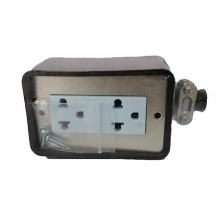three_eye_plug: (18, 52, 178, 164)
